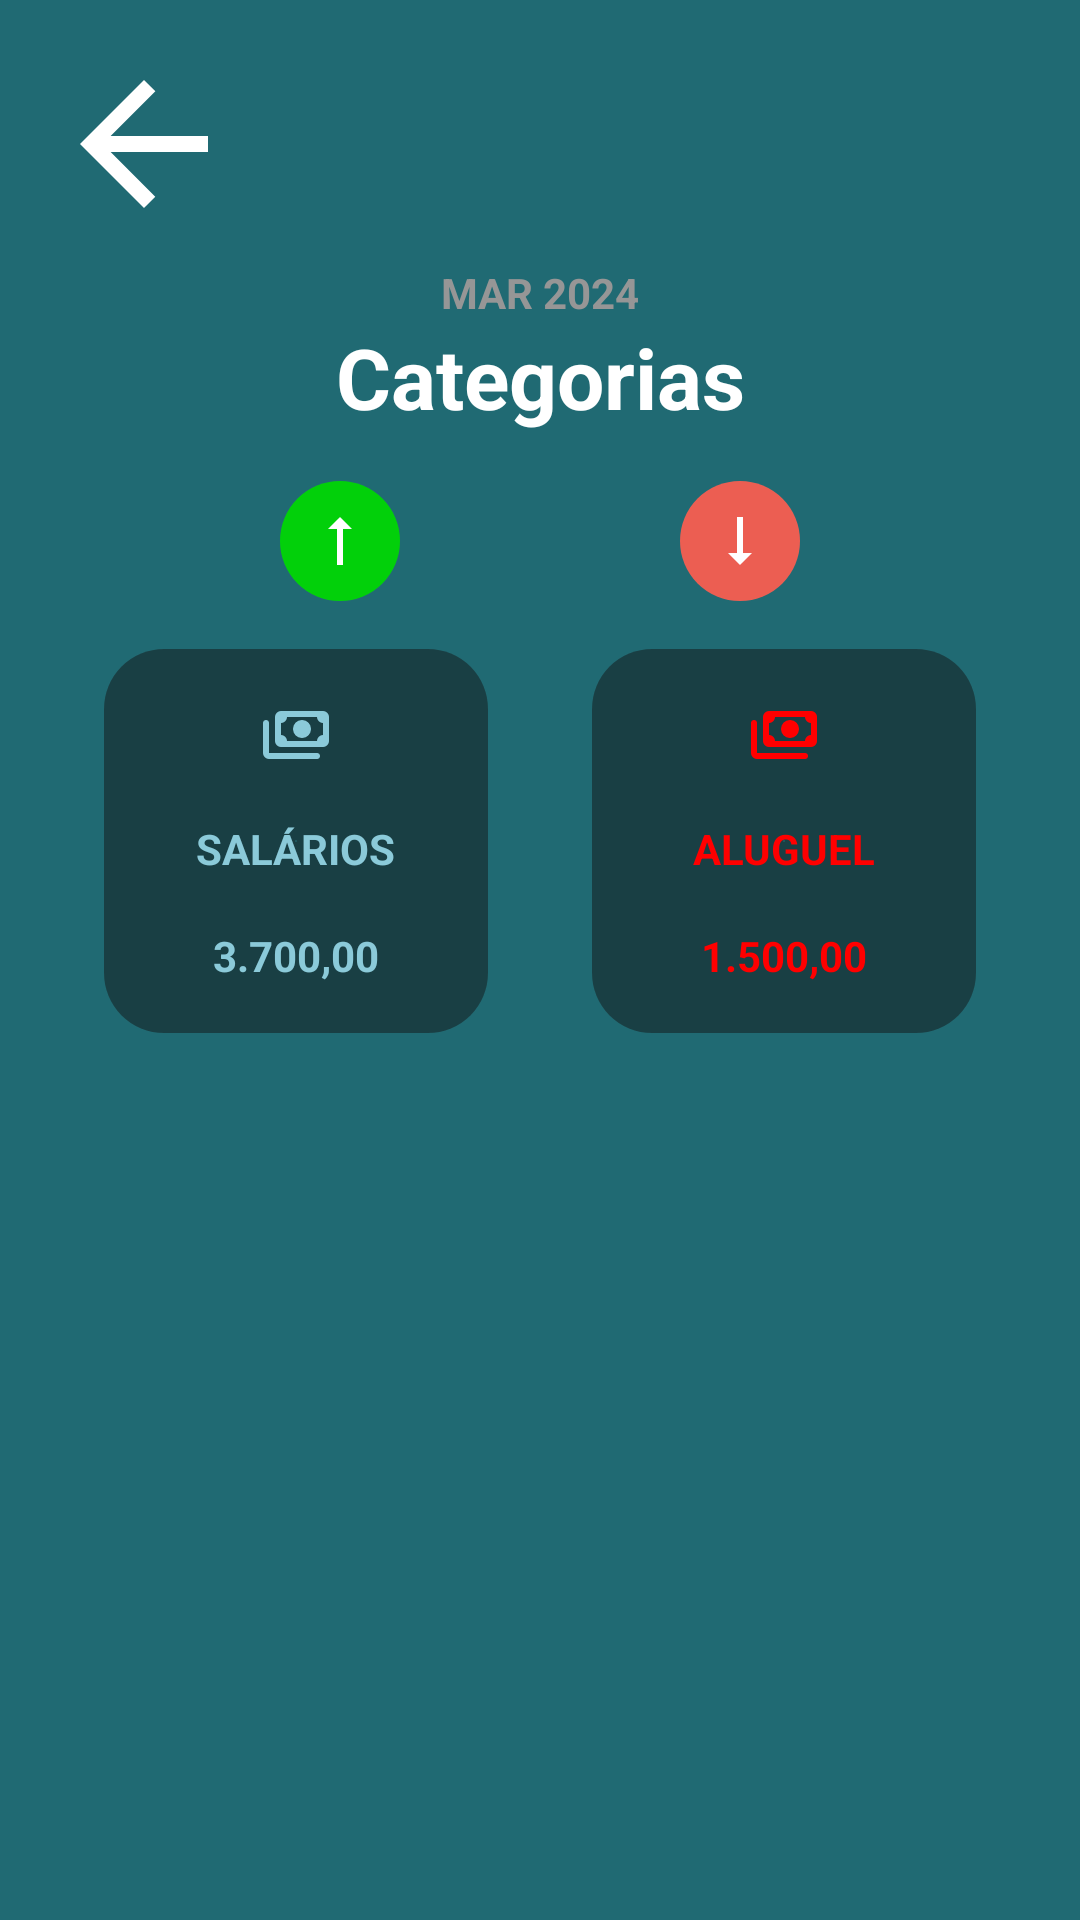

Named icons in this screenshot (1080px×1920px) and their centers, point (x, y):
payments: point (296, 735), point (784, 735)
